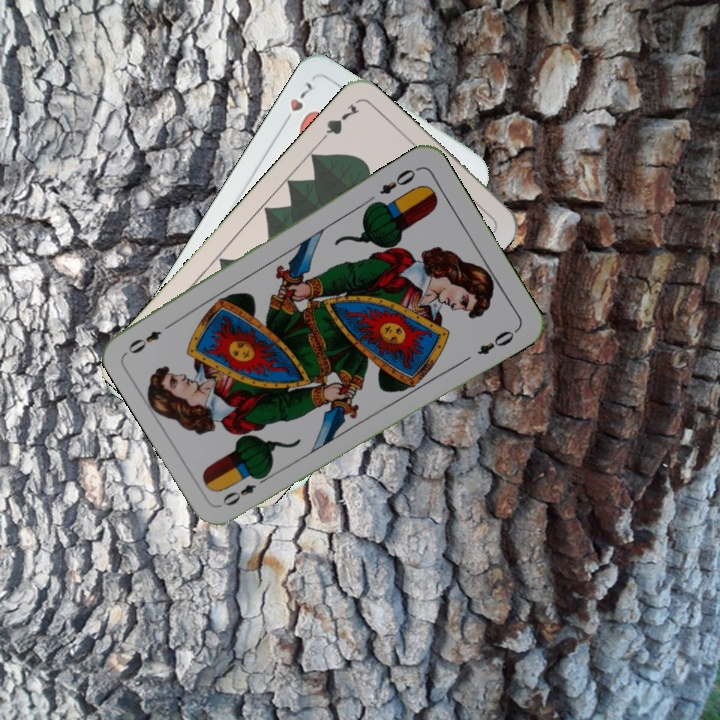EO: (218, 470, 271, 509), (375, 163, 422, 197)
G7: (314, 99, 363, 147)
H7: (278, 77, 317, 128)
